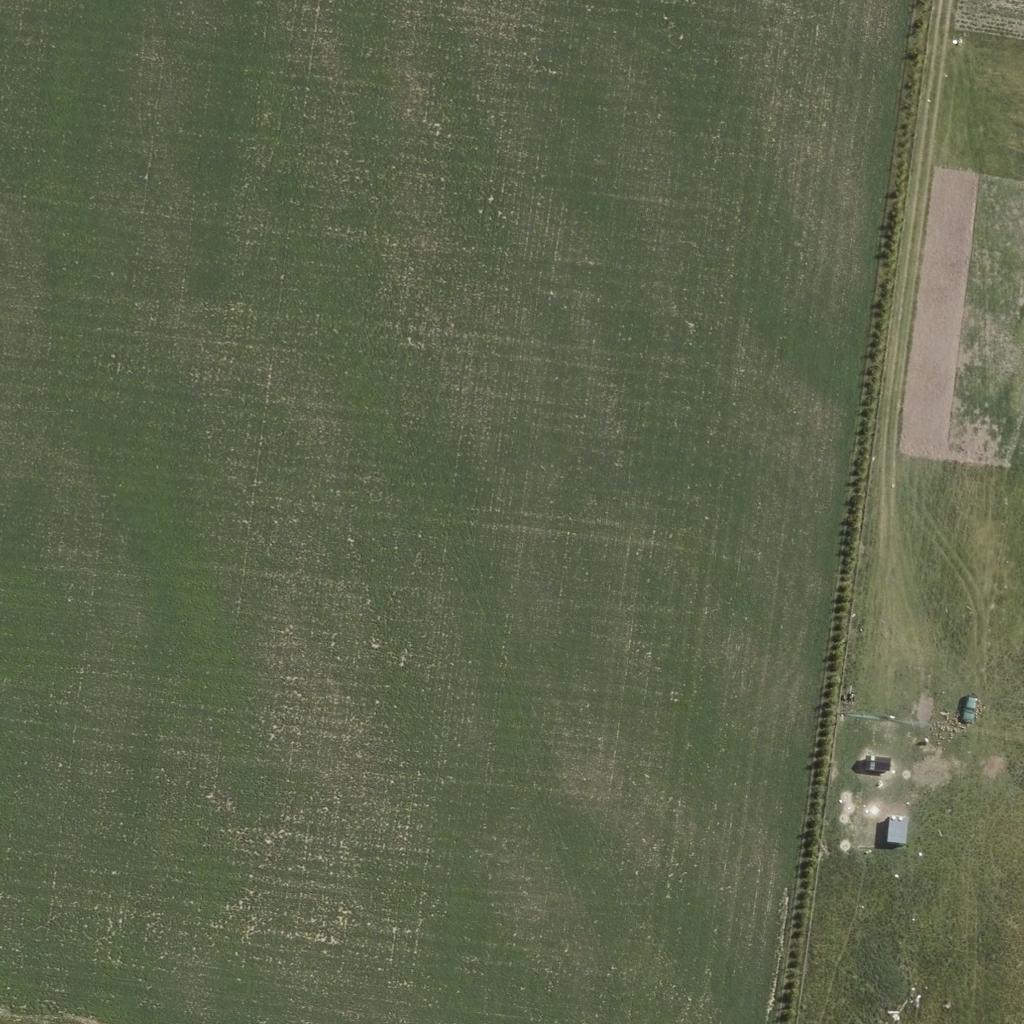car: (952, 689, 986, 723)
